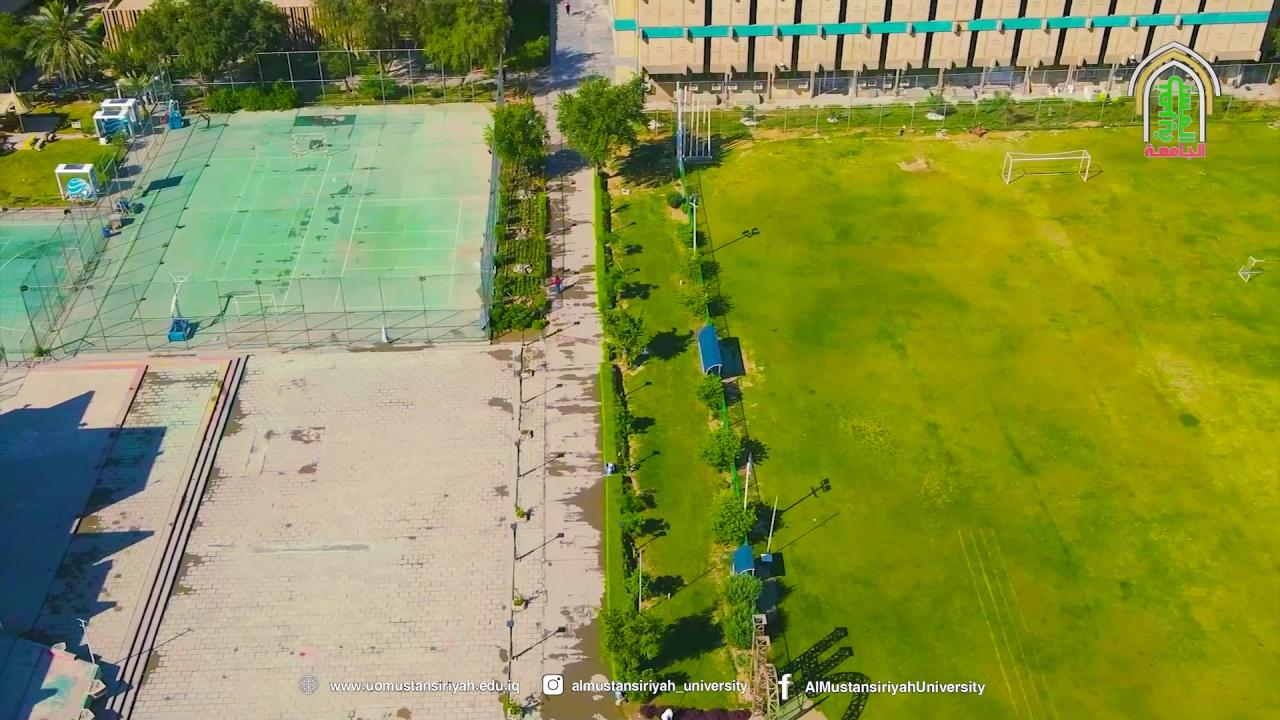person: (564, 1, 570, 16)
tree: (103, 0, 286, 108), (482, 96, 552, 340), (554, 72, 646, 170), (404, 0, 513, 77), (20, 0, 101, 86), (598, 604, 667, 702), (697, 424, 769, 498), (482, 97, 550, 175), (310, 0, 377, 77), (711, 571, 764, 650), (676, 258, 734, 320), (599, 304, 649, 364), (697, 424, 745, 474), (710, 498, 757, 548), (90, 130, 128, 191), (0, 9, 27, 93), (696, 370, 729, 427), (357, 59, 397, 101), (267, 77, 298, 111)
